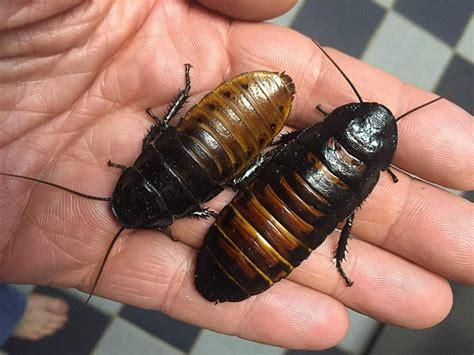cockroach: (191, 100, 399, 305), (106, 66, 295, 232)
